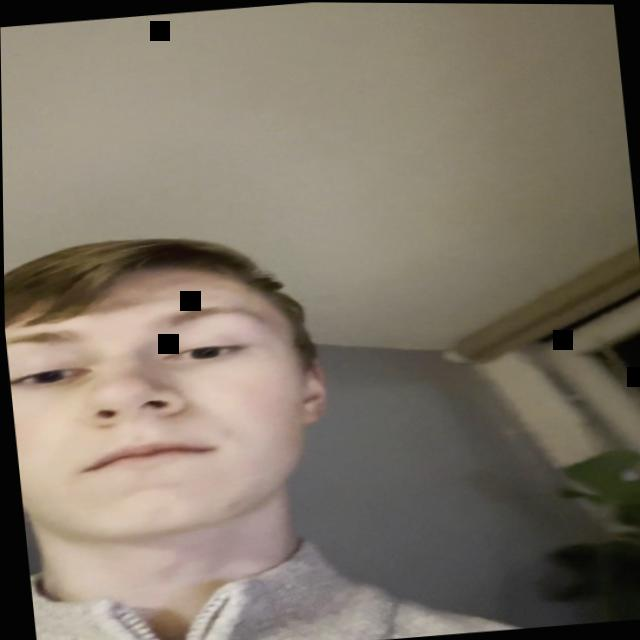NO-Mask: (3, 249, 321, 545)
